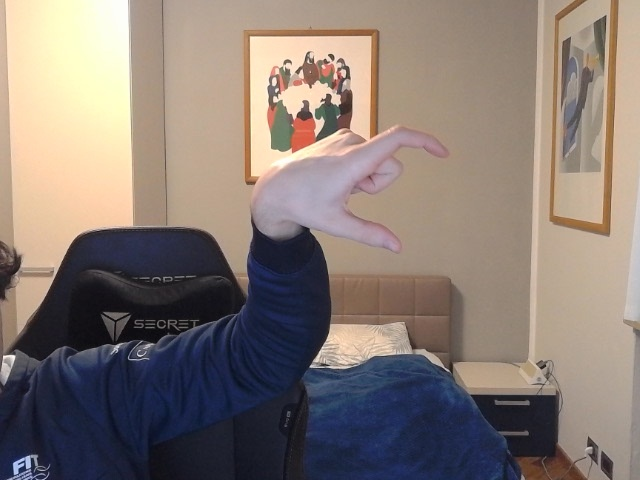q: (249, 121, 451, 257)
